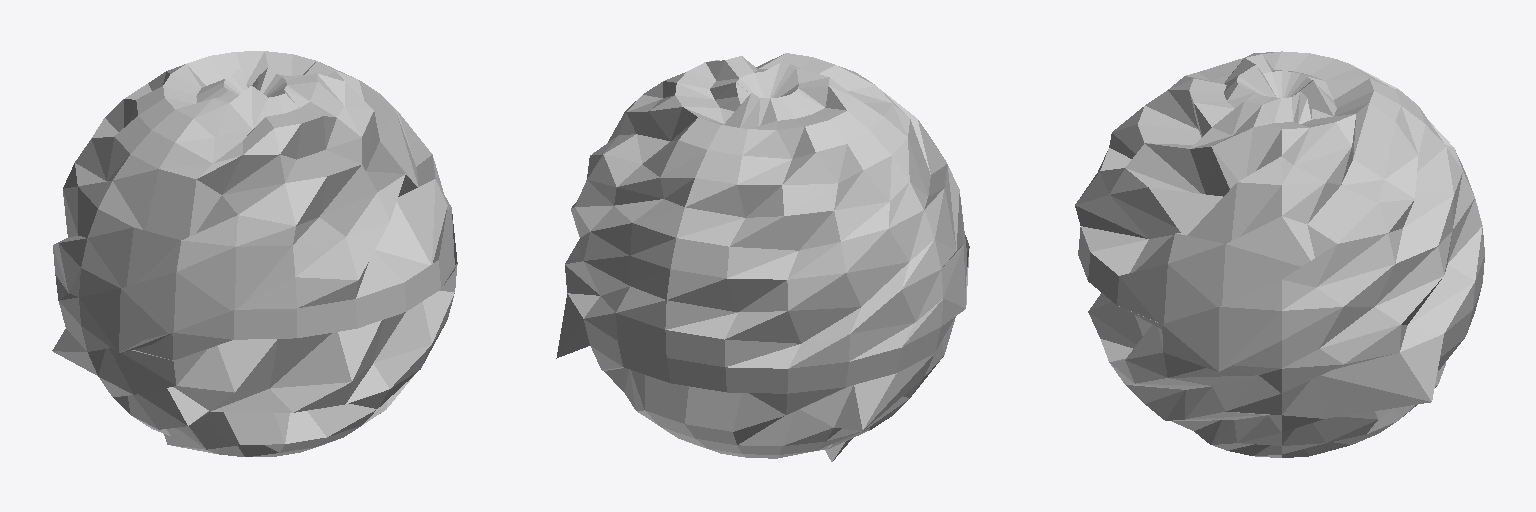
Rendered from Range1.obj.
3 renders of one model, left to right at view 1: azimuth 30°, elevation 25°; view 2: azimuth 150°, elevation 25°; view 3: azimuth 270°, elevation 25°, orthographic.
Visible parts, largest first — view 1: pSphere1; view 2: pSphere1; view 3: pSphere1.
Part boxes in pixels (left/top/right/bottom): pSphere1: left=52, top=51, right=457, bottom=456; pSphere1: left=556, top=53, right=969, bottom=461; pSphere1: left=1075, top=51, right=1484, bottom=457.
Size of the model in its own units: 0.6354 by 0.6315 by 0.6406.